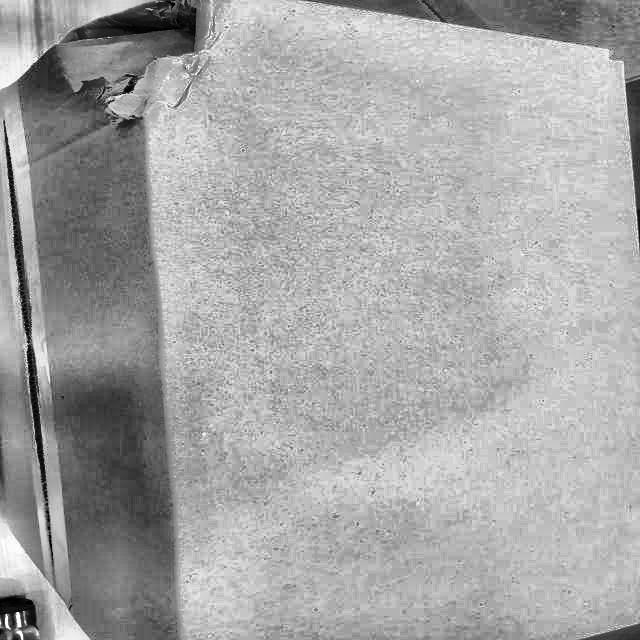box: (0, 0, 639, 639)
hole: (55, 0, 224, 107)
